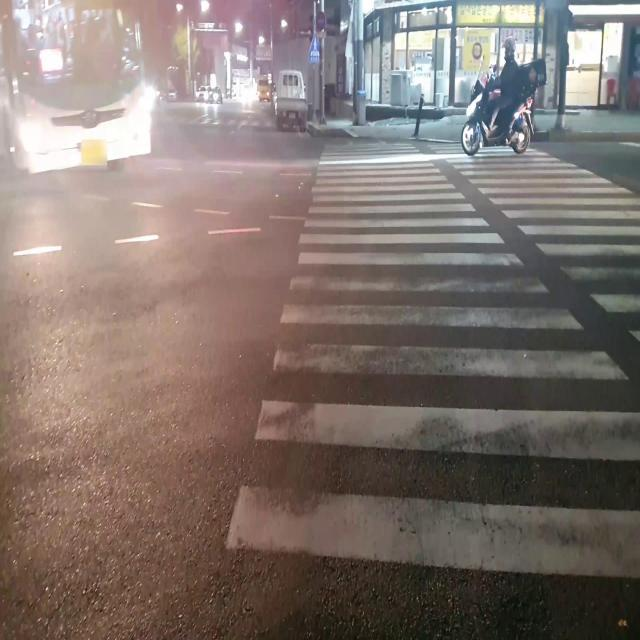crosswalk: (222, 141, 640, 581)
